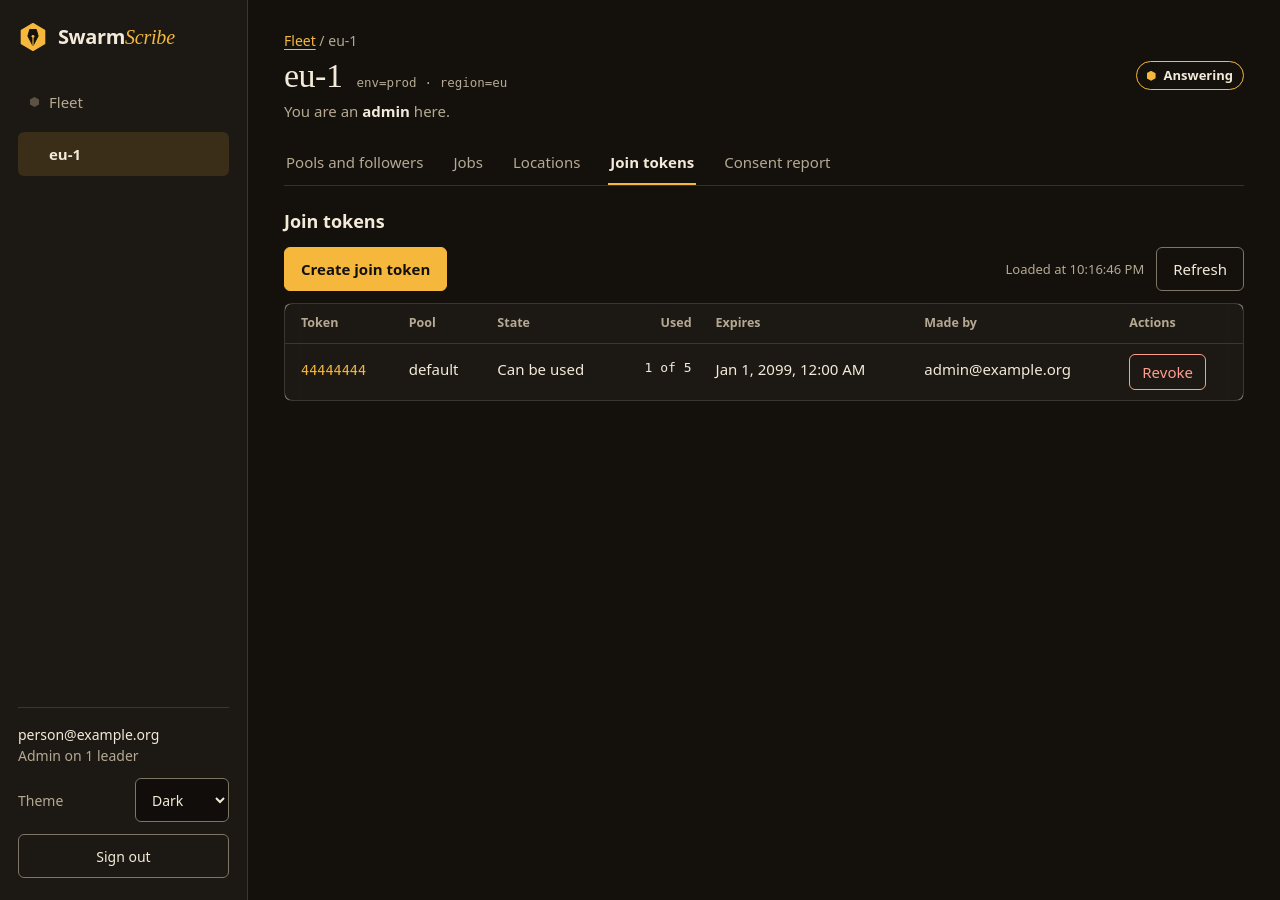
Scenario: join tokens tab: list and revoke › keeps the confirmation open with the error when the revoke fails
Click the button with aria-label "Revoke token 44444444". click: (1168, 372)
box: [1129, 354, 1206, 390]
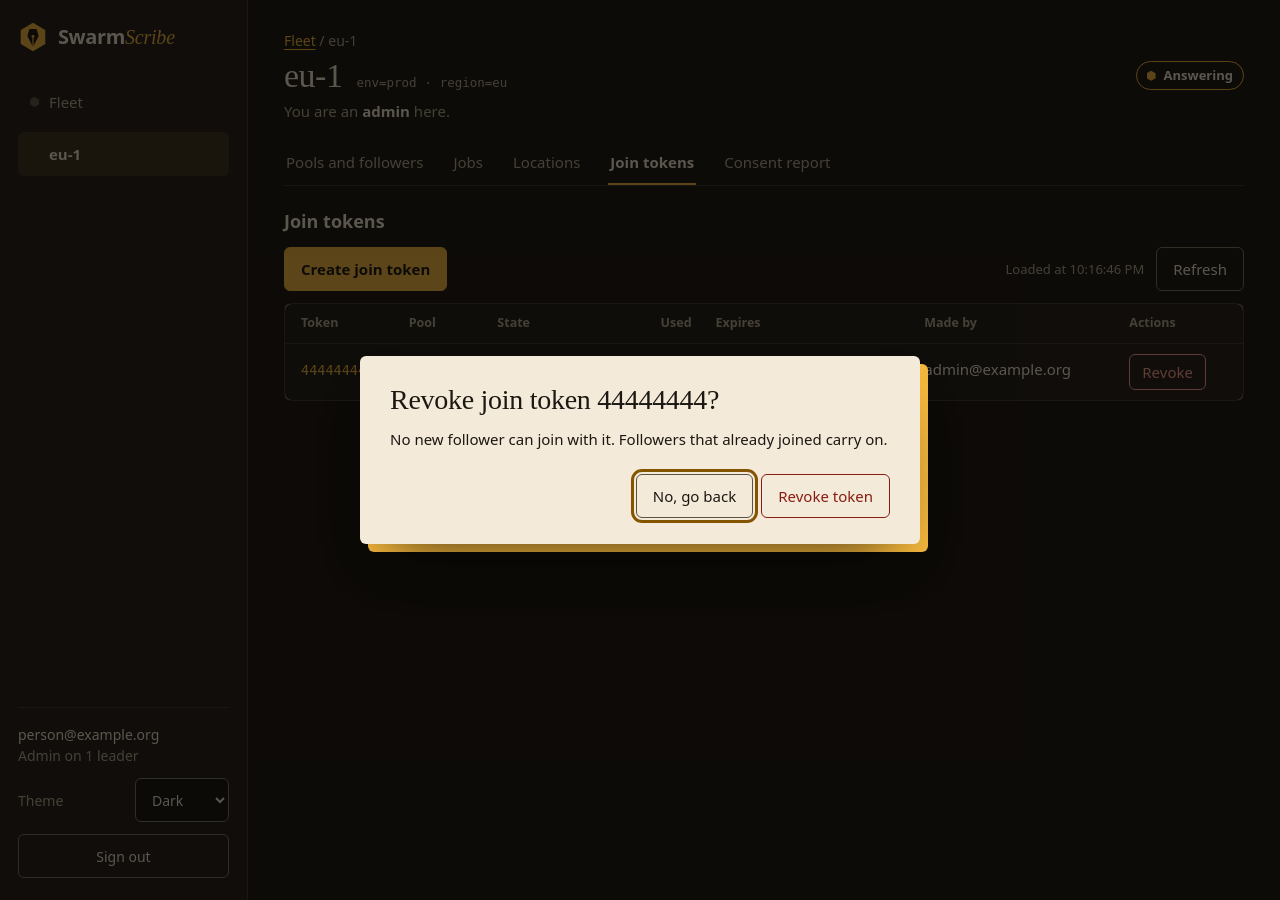
Click the button "Revoke token". click: (826, 496)
box: [761, 474, 890, 518]
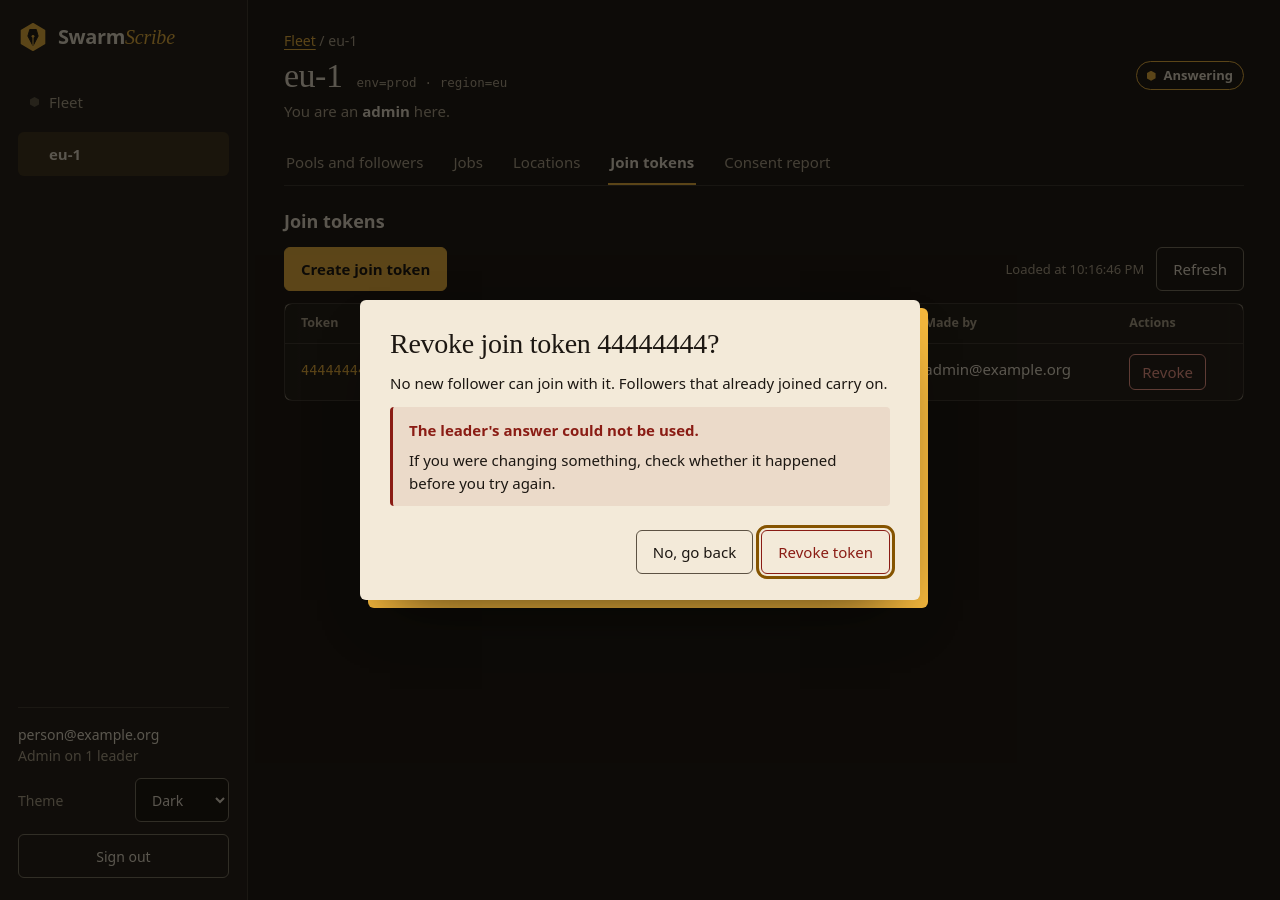
Expected: the message is shown, [390, 407, 890, 506]
